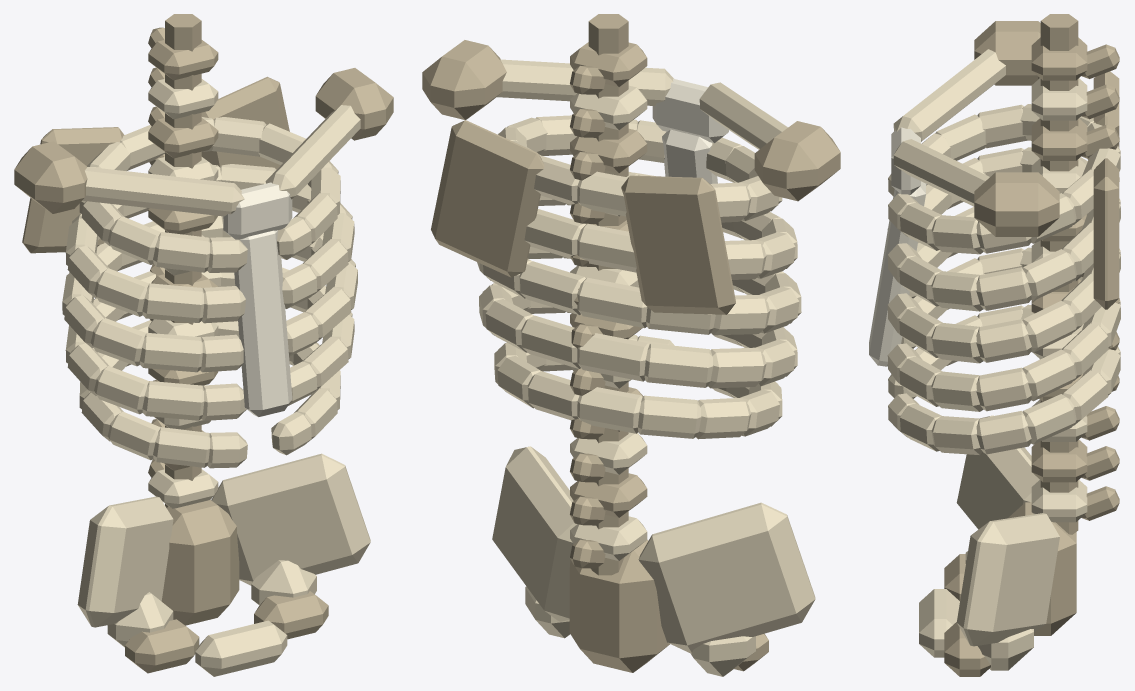
Rendered from torace.glb.
3 views of the same model, side by side, from view 1: azimuth 30°, elevation 25°; view 2: azimuth 150°, elevation 25°; view 3: azimuth 270°, elevation 25° (orthographic). The views are drawn at different scales.
Parts seen in each view (by area): view 1: torace2; view 2: torace2; view 3: torace2.
Boxes of the visible parts, x1,y1,x2,y2 form: torace2: (14, 14, 393, 676); torace2: (422, 14, 840, 676); torace2: (869, 14, 1120, 676).
Size of the model in its own units: 0.5 by 0.805 by 0.2955.
